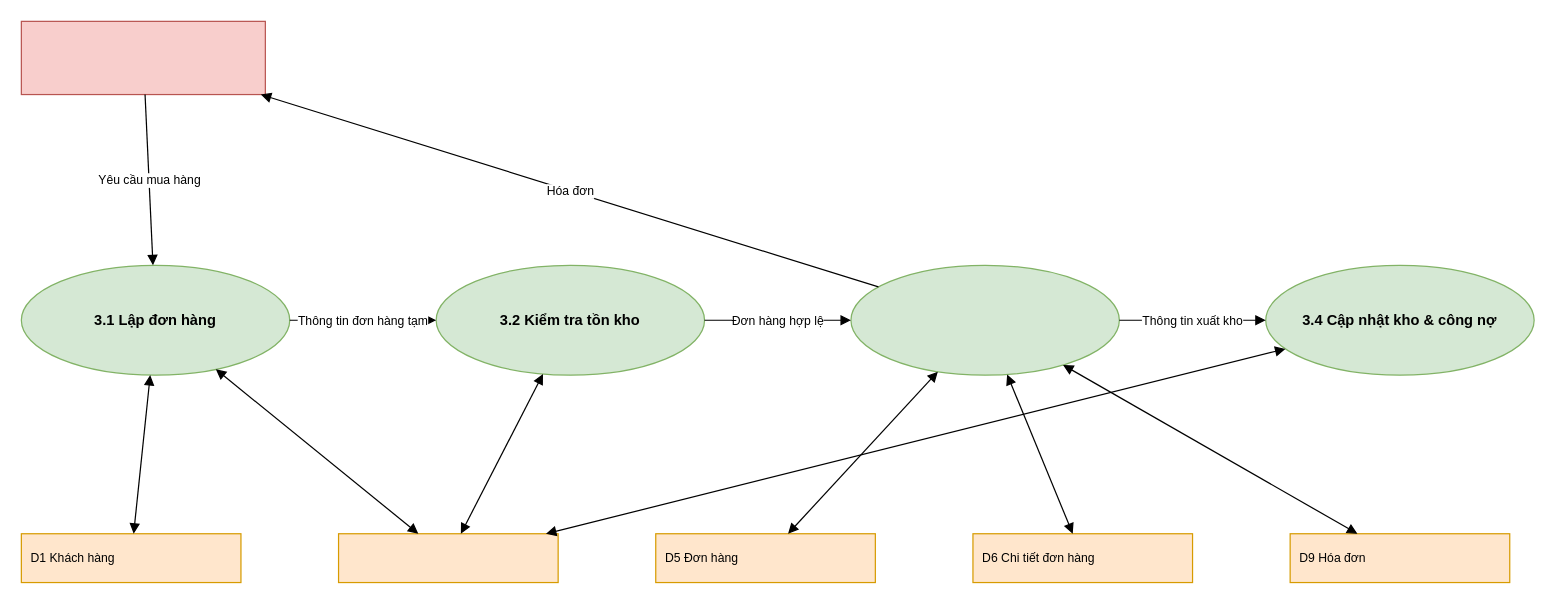
Image size: 1556x604. Some labels were removed from this diagram. The shapes that lost their labels are listed below. From the top down, each one's centre as x and y in pixels, then its label:
the point at 142,57: KHÁCH HÀNG
the point at 984,319: 3.3 Lập hóa đơn
the point at 447,558: D2 Sản phẩm
